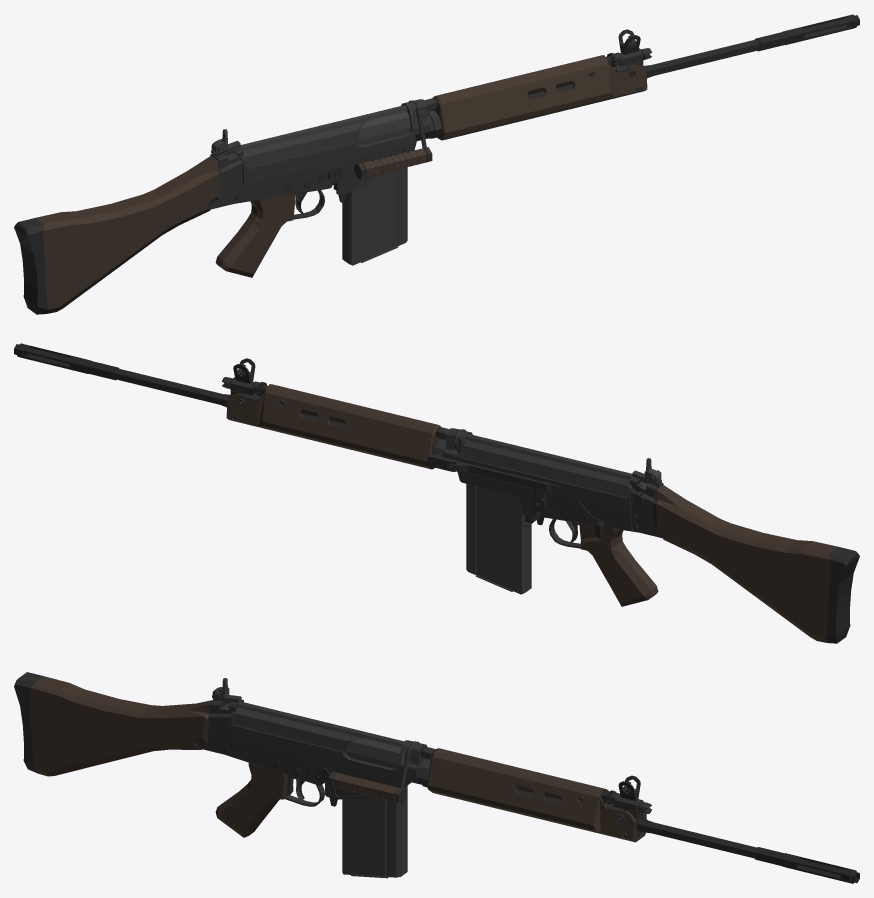
Rendered from L1A1 SLR (Wood).fbx.
3 views of the same model, one above another, from view 1: azimuth 30°, elevation 25°; view 2: azimuth 150°, elevation 25°; view 3: azimuth 330°, elevation 25° (orthographic).
Visible parts, largest first — view 1: L1A1 SLR (Wood); view 2: L1A1 SLR (Wood); view 3: L1A1 SLR (Wood).
Boxes of the visible parts, x1,y1,x2,y2 form: L1A1 SLR (Wood): (14,14,859,314); L1A1 SLR (Wood): (14,343,859,643); L1A1 SLR (Wood): (14,672,859,883).
Size of the model in its own units: 1218 by 226 by 71.84.
